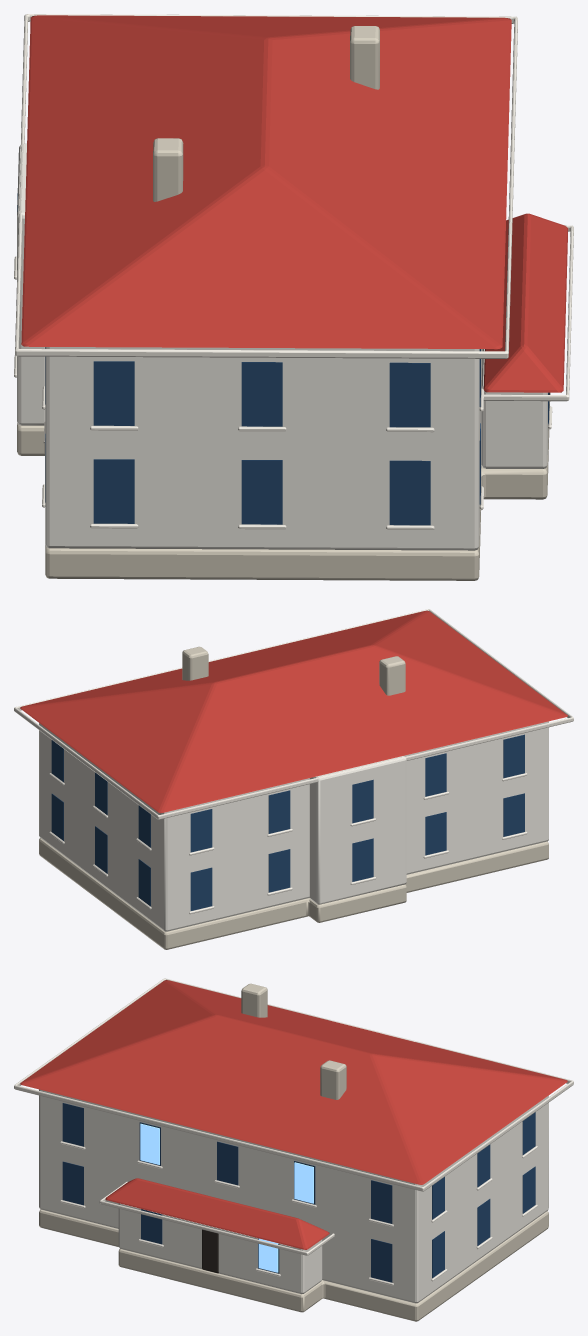
File: mid.glb
3 views of the same model, one above another, from view 1: azimuth 30°, elevation 25°; view 2: azimuth 150°, elevation 25°; view 3: azimuth 270°, elevation 25° (orthographic). The views are drawn at different scales.
Visible parts, largest first — view 1: grp_Toy_red, grp_Toy_white, grp_Toy_stone, grp_Toy_glass, grp_Toy_trim; view 2: grp_Toy_red, grp_Toy_white, grp_Toy_glass, grp_Toy_stone, grp_Toy_trim; view 3: grp_Toy_red, grp_Toy_white, grp_Toy_stone, grp_Toy_glass, grp_Toy_trim, grp_Toy_glass_Glow, front_door.
Part boxes in pixels (x1,y1,x2,y2): grp_Toy_red: [21, 15, 568, 392]; grp_Toy_white: [17, 143, 548, 550]; grp_Toy_stone: [17, 26, 550, 580]; grp_Toy_glass: [17, 193, 549, 525]; grp_Toy_trim: [14, 14, 573, 529]; grp_Toy_red: [20, 610, 567, 813]; grp_Toy_white: [39, 721, 548, 931]; grp_Toy_glass: [51, 734, 524, 910]; grp_Toy_stone: [39, 646, 548, 949]; grp_Toy_trim: [14, 609, 573, 914]; grp_Toy_red: [20, 980, 567, 1249]; grp_Toy_white: [39, 1020, 548, 1303]; grp_Toy_stone: [39, 983, 548, 1321]; grp_Toy_glass: [62, 1103, 535, 1282]; grp_Toy_trim: [14, 978, 573, 1285]; grp_Toy_glass_Glow: [140, 1123, 313, 1272]; front_door: [202, 1229, 218, 1273].
Bounding box in the file's own units: 22.26 × 10 × 25.1.
